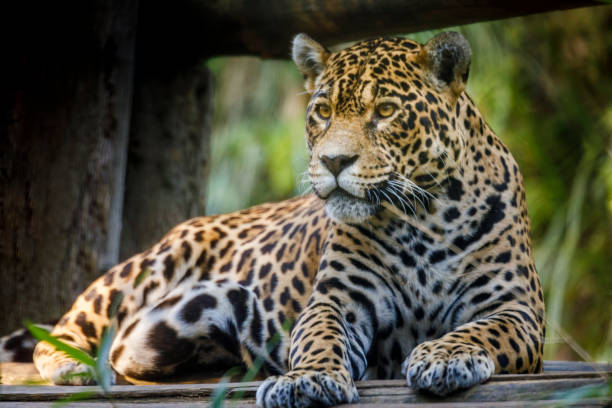cheetah: (271, 17, 505, 239)
